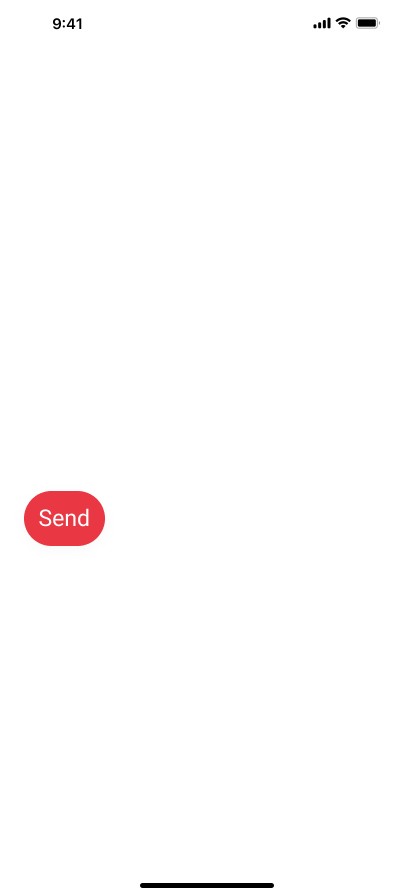Buttons: (8, 479, 121, 566)
Home Indicator: (0, 862, 414, 896)
Status Bar: (0, 0, 414, 44)
